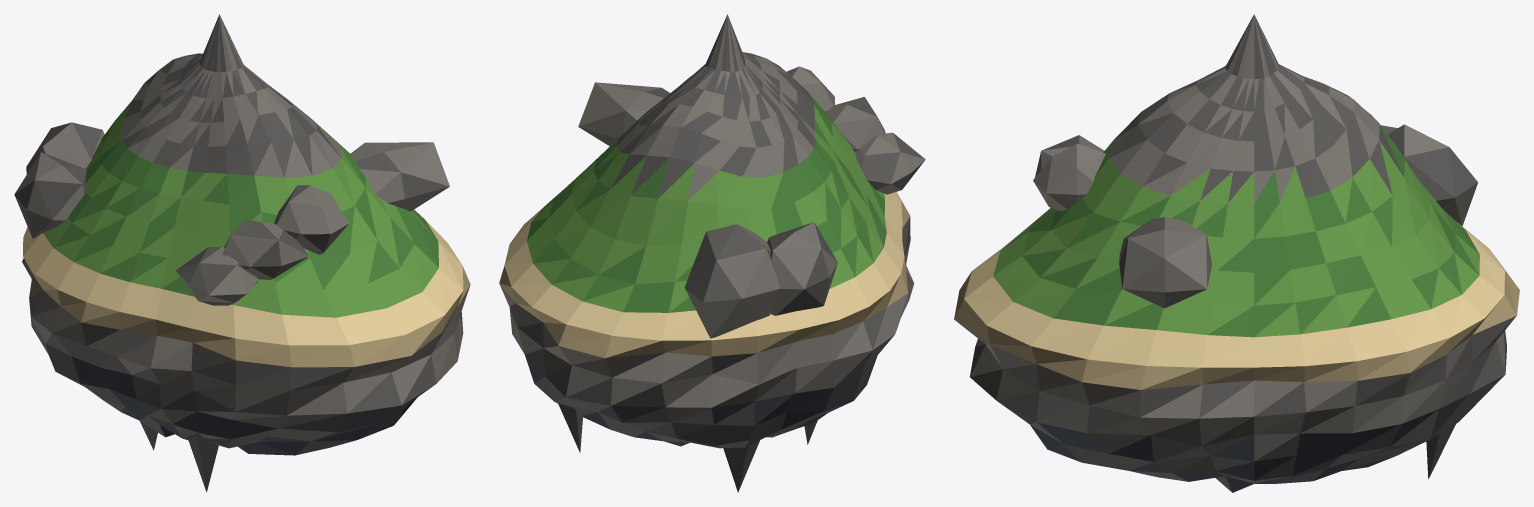
Rendered from island_crag.obj.
3 renders of one model, left to right at view 1: azimuth 30°, elevation 25°; view 2: azimuth 150°, elevation 25°; view 3: azimuth 270°, elevation 25°, orthographic. The views are drawn at different scales.
Parts seen in each view (by area): view 1: island_crag; view 2: island_crag; view 3: island_crag.
Part boxes in pixels (<box>): island_crag: <box>14,14,470,492</box>; island_crag: <box>499,14,925,492</box>; island_crag: <box>954,14,1519,492</box>.
Bounding box in the file's own units: 11.12 × 13.27 × 13.97.
Materials: 1 (1 with a texture image).
